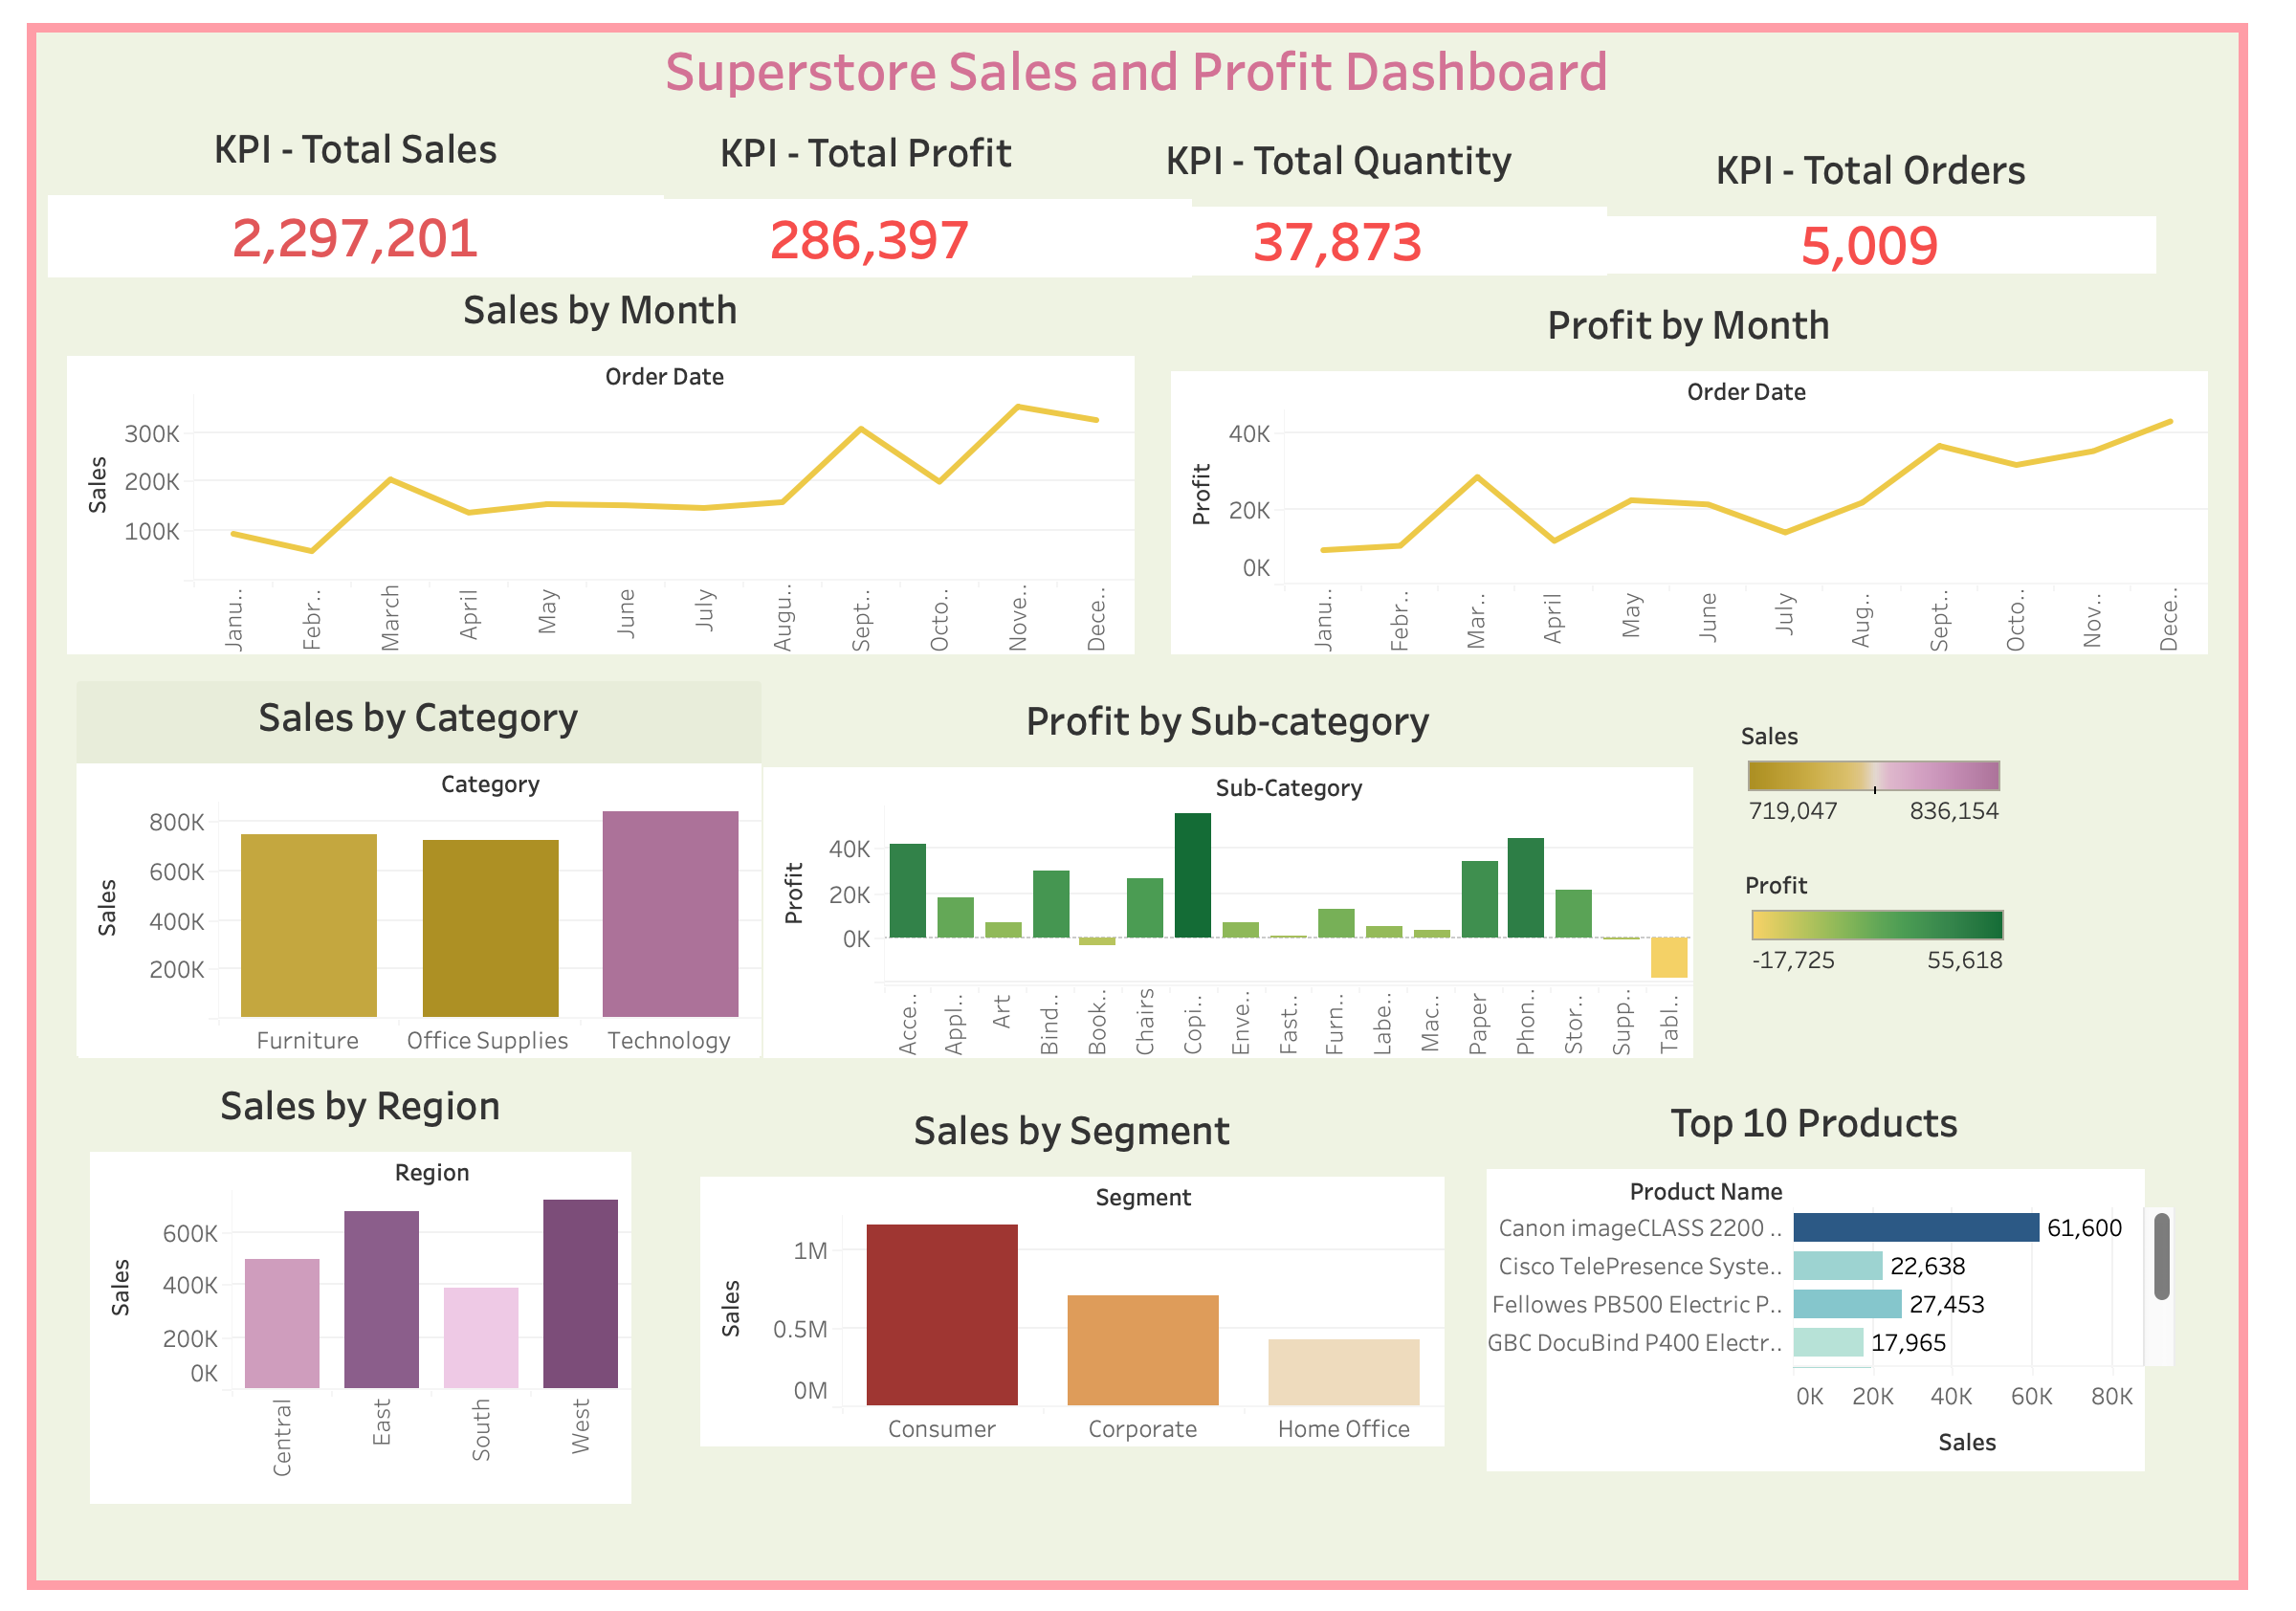

The page's visual inventory and layout, read from the dashboard file:
{"tool":"tableau","page":{"name":"Dashboard 2","canvas":[1169,827],"ordinal":1},"visuals":[{"type":"text","box":[9,9,1151,38]},{"type":"worksheet","title":"total sales","mark":"Automatic","box":[15,51,322,86]},{"type":"worksheet","title":"total profit ","mark":"Automatic","box":[277,53,336,84]},{"type":"worksheet","title":"total quantity","mark":"Automatic","box":[550,57,280,79]},{"type":"worksheet","title":"total order","mark":"Automatic","box":[819,62,298,73]},{"type":"worksheet","title":"sales by month","mark":"Automatic","rows":["Sales"],"cols":["Order Date"],"box":[25,135,558,199]},{"type":"worksheet","title":"profit by month","mark":"Automatic","rows":["Profit"],"cols":["Order Date"],"box":[602,143,542,192]},{"type":"worksheet","title":"sales by category","mark":"Bar","rows":["Sales"],"cols":["Category"],"box":[30,348,358,197]},{"type":"worksheet","title":"profit by category","mark":"Bar","rows":["Profit"],"cols":["Sub-Category"],"box":[389,350,486,195]},{"type":"legend","title":"sales by category","param":"[federated.1vrtblw1z013r414nu02i0m08hb3].[sum:Sales:qk]","box":[900,368,140,76]},{"type":"legend","title":"profit by category","param":"[federated.1vrtblw1z013r414nu02i0m08hb3].[sum:Profit:qk]","box":[902,446,140,76]},{"type":"worksheet","title":"Sales by Region","mark":"Bar","rows":["Sales"],"cols":["Region"],"box":[37,551,283,227]},{"type":"worksheet","title":"Top 10 Products","mark":"Bar","rows":["Product Name"],"cols":["Sales"],"box":[767,560,360,201]},{"type":"worksheet","title":"Sales by Segment","mark":"Bar","rows":["Sales"],"cols":["Segment"],"box":[356,564,389,184]}]}

Visuals, with their boxes in screenshot pixels (x1, y1, x2, y2), scaled from the page's 1169x827 canvas onto the 2296x1611 screenshot:
text: 17:17:2279:92
"total sales" worksheet: 30:99:662:267
"total profit " worksheet: 544:103:1204:267
"total quantity" worksheet: 1080:111:1630:265
"total order" worksheet: 1608:121:2194:263
"sales by month" worksheet: 49:263:1145:651
"profit by month" worksheet: 1182:278:2247:652
"sales by category" worksheet (Bar marks): 59:678:762:1062
"profit by category" worksheet (Bar marks): 764:682:1718:1062
"sales by category" legend: 1768:717:2042:865
"profit by category" legend: 1772:869:2046:1017
"Sales by Region" worksheet (Bar marks): 73:1073:629:1515
"Top 10 Products" worksheet (Bar marks): 1507:1091:2214:1483
"Sales by Segment" worksheet (Bar marks): 699:1098:1464:1457
